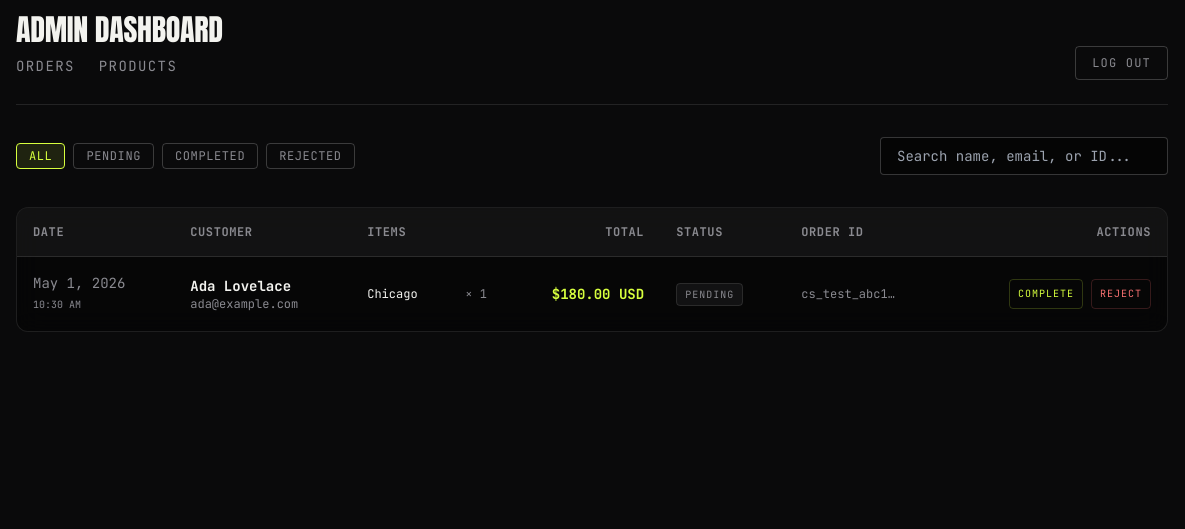
Scenario: row expansion › reveals shipping details when a row is clicked
Expected: the text "Ada Lovelace" is shown, [190,277,291,295]
Expected: the text "Shipping Details" is not shown
Click the text "ada@example.com" at (244, 304), box [190,296,298,312]
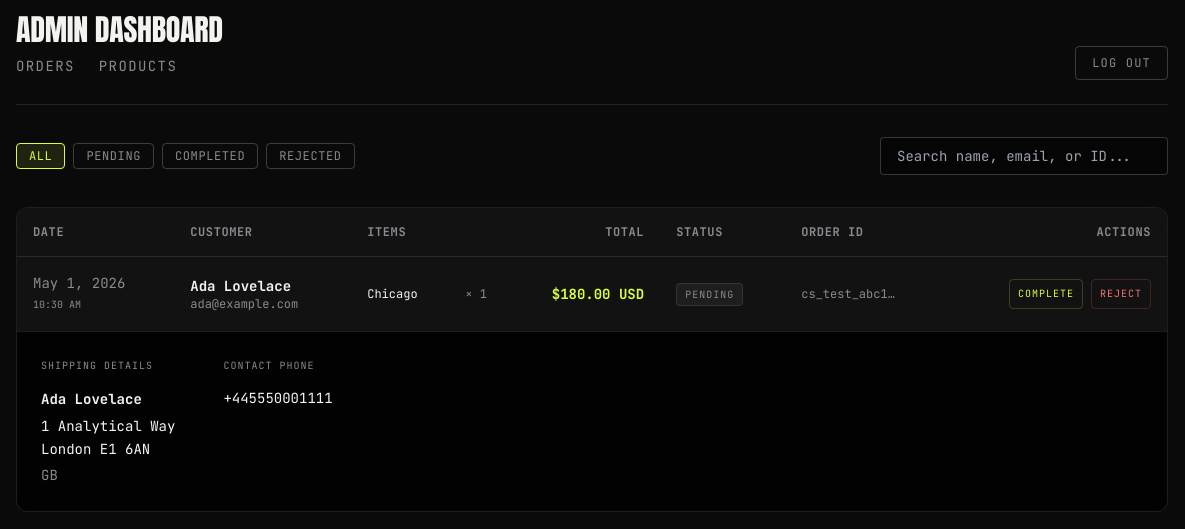
Expected: the heading "Shipping Details" is shown, [41,359,153,372]
Expected: the text "1 Analytical Way" is shown, [41,415,175,438]
Expected: the heading "Contact Phone" is shown, [223,359,314,372]
